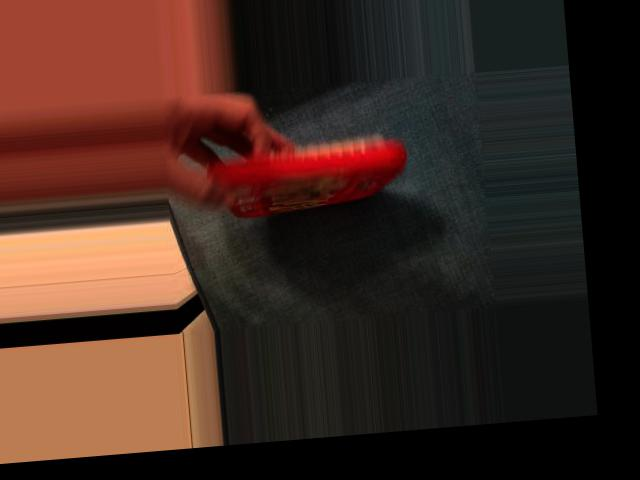cheese: (209, 136, 403, 213)
